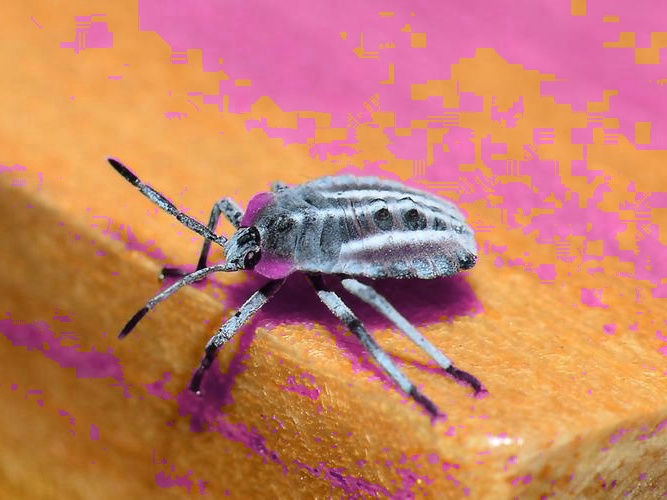Stink_Bug: (170, 165, 460, 307)
